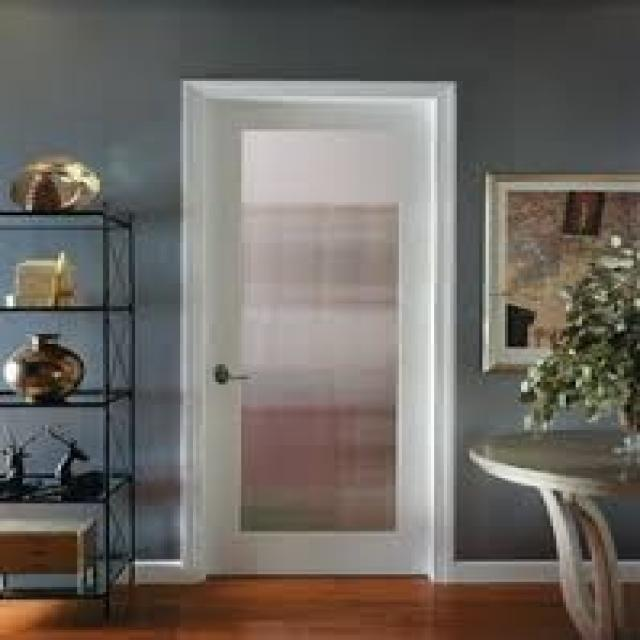Door: (183, 91, 441, 572)
